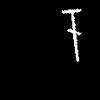double_crochet: (62, 9, 80, 60)
